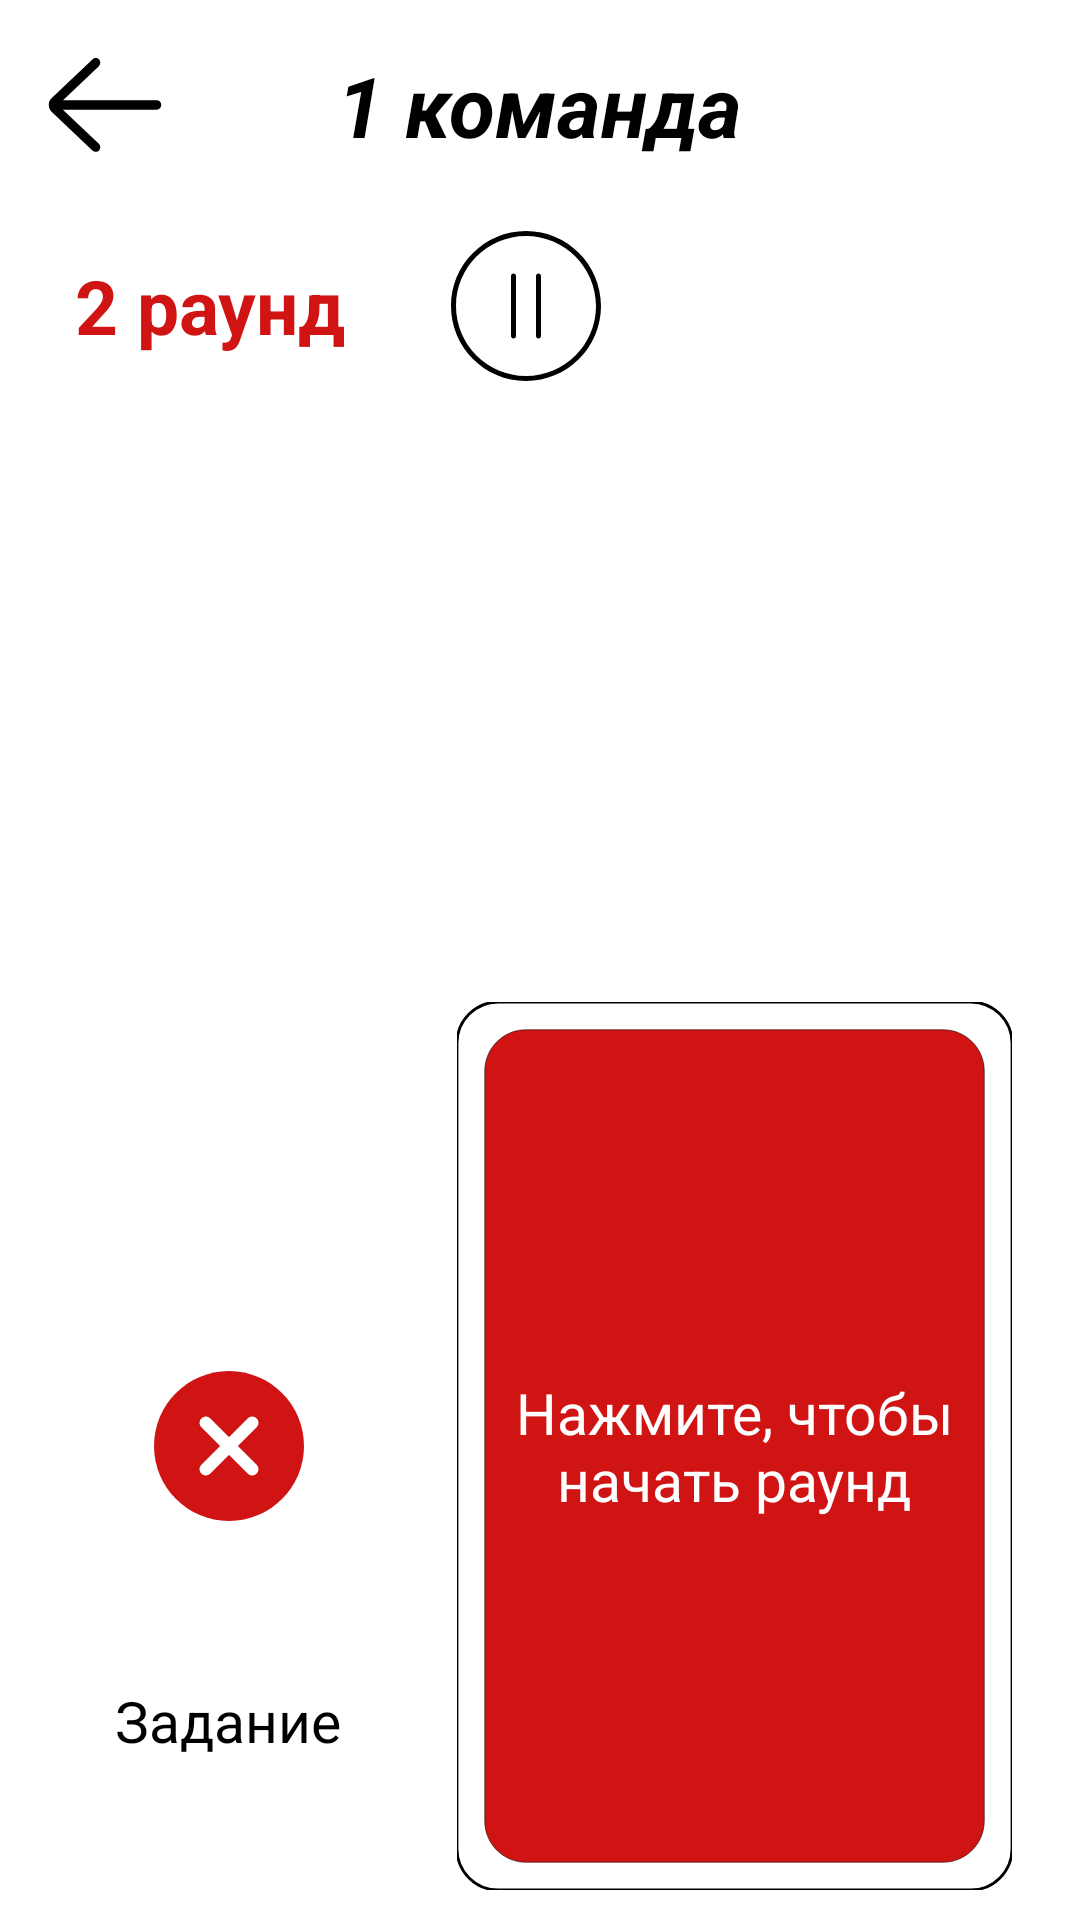

Point at icon controls on the screen. Image size 1080*1920, points as (x=x, y=y).
cross: (x=229, y=1446)
